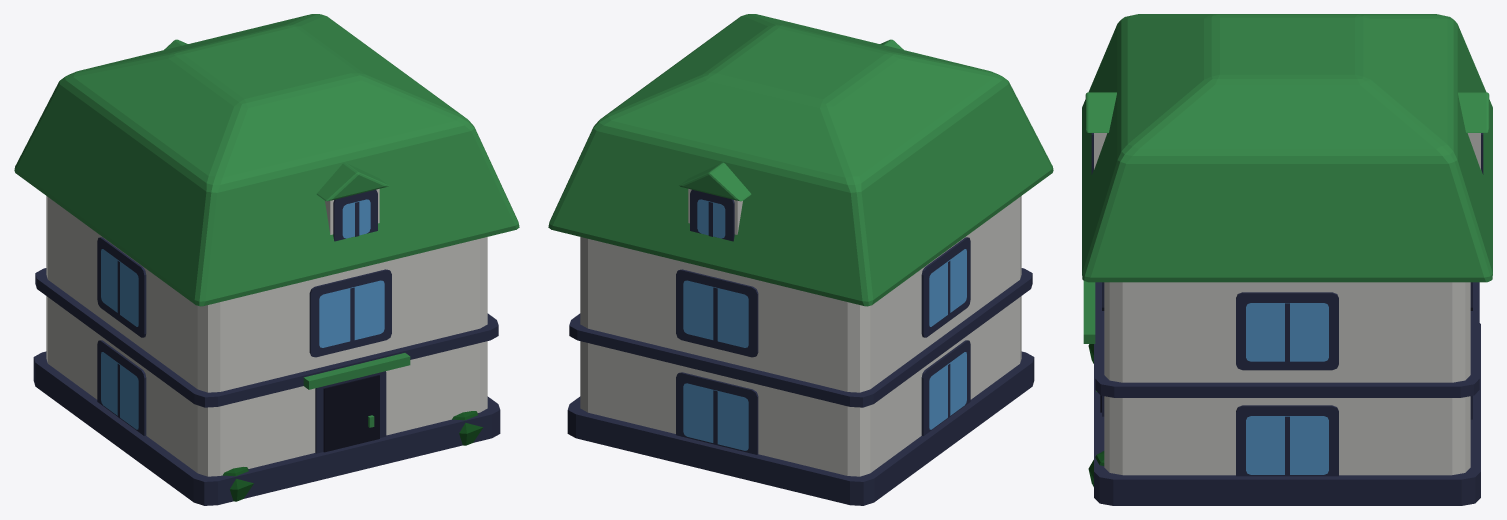
The model's file is house-1x1-2f-mansard-a.glb.
The picture shows the model from 3 angles, left to right: view 1: azimuth 30°, elevation 25°; view 2: azimuth 150°, elevation 25°; view 3: azimuth 270°, elevation 25°; orthographic projection. The views are drawn at different scales.
Parts seen in each view (by area): view 1: house-1x1-2f-mansard-a; view 2: house-1x1-2f-mansard-a; view 3: house-1x1-2f-mansard-a.
Boxes of the visible parts, <box> form: house-1x1-2f-mansard-a: <box>14,14,519,505</box>; house-1x1-2f-mansard-a: <box>548,14,1053,505</box>; house-1x1-2f-mansard-a: <box>1082,14,1492,505</box>.
Size of the model in its own units: 0.9876 by 1 by 0.9876.
Materials: 1 (1 with a texture image).
